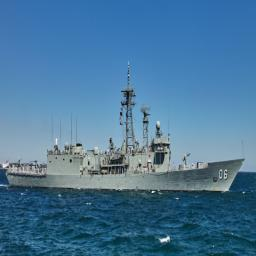Fragata: (3, 56, 247, 195)
